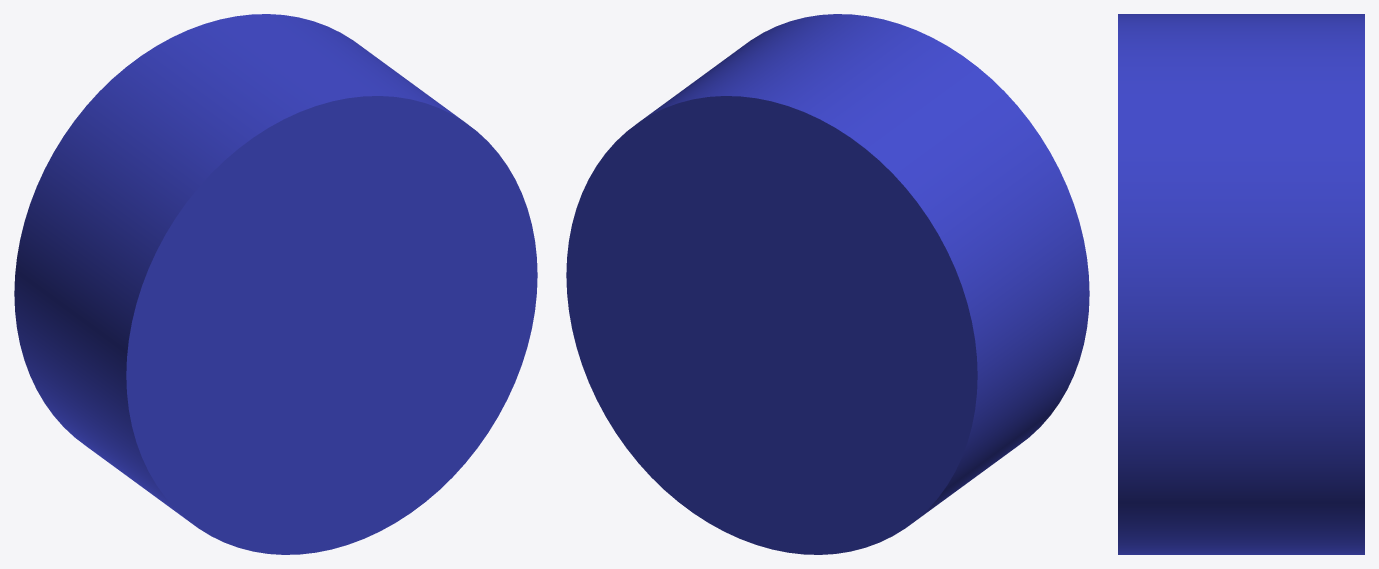
File: carweel.fbx
3 renders of one model, left to right at view 1: azimuth 30°, elevation 25°; view 2: azimuth 150°, elevation 25°; view 3: azimuth 270°, elevation 25°, orthographic. The views are drawn at different scales.
Visible parts, largest first — view 1: root; view 2: root; view 3: root.
Boxes of the visible parts, <box> form: root: <box>14,14,537,554</box>; root: <box>566,14,1089,554</box>; root: <box>1118,14,1364,554</box>.
Bounding box in the file's own units: 0.199 × 0.2072 × 0.0938.
